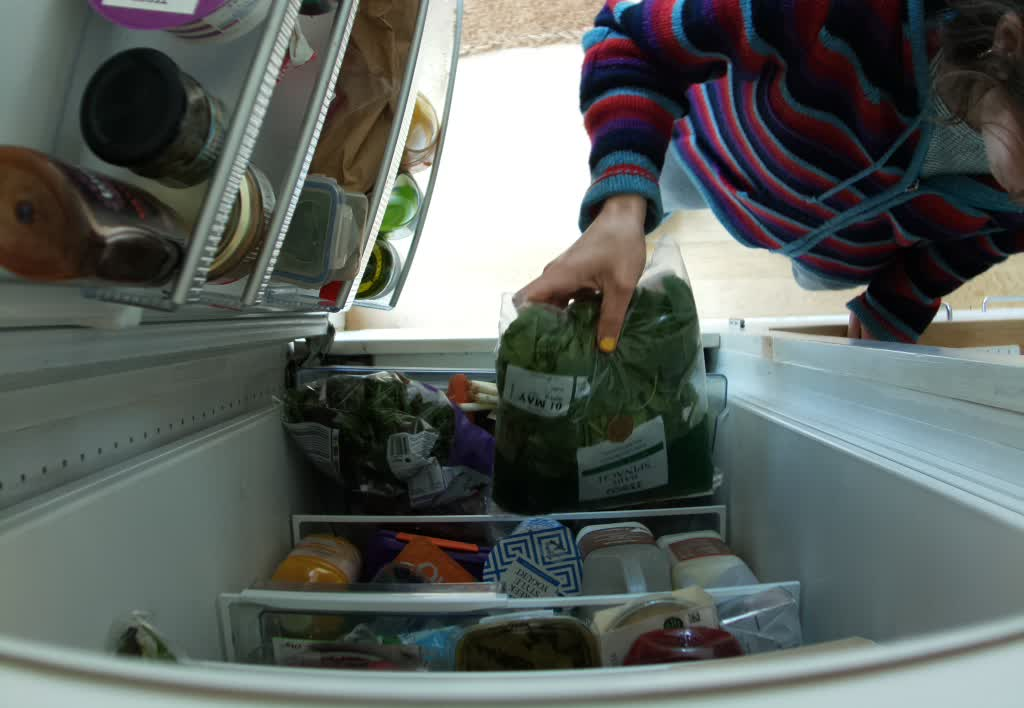salad: (491, 271, 715, 508), (277, 371, 487, 510)
